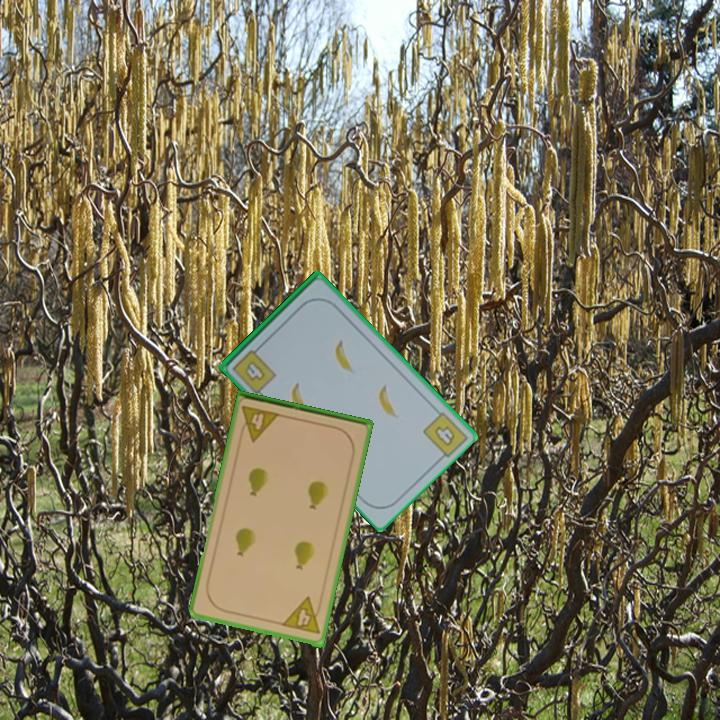4b: (229, 341, 279, 397), (431, 422, 458, 449)
4p: (278, 594, 325, 637), (236, 402, 283, 444)
